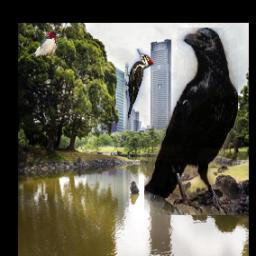Crow: (144, 29, 238, 216)
Woodpecker: (126, 49, 154, 125), (28, 30, 60, 57)
